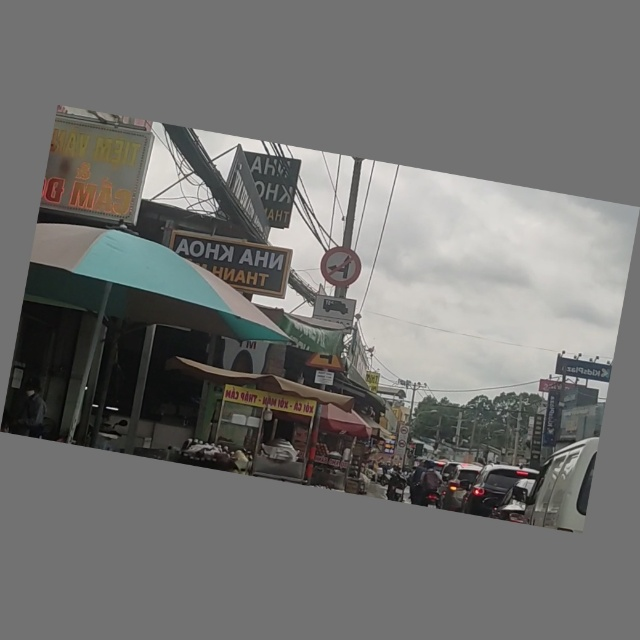P.139: (319, 246, 363, 288)
S.505a*Xe tai: (313, 293, 356, 327)
W.205b: (307, 353, 349, 372)
